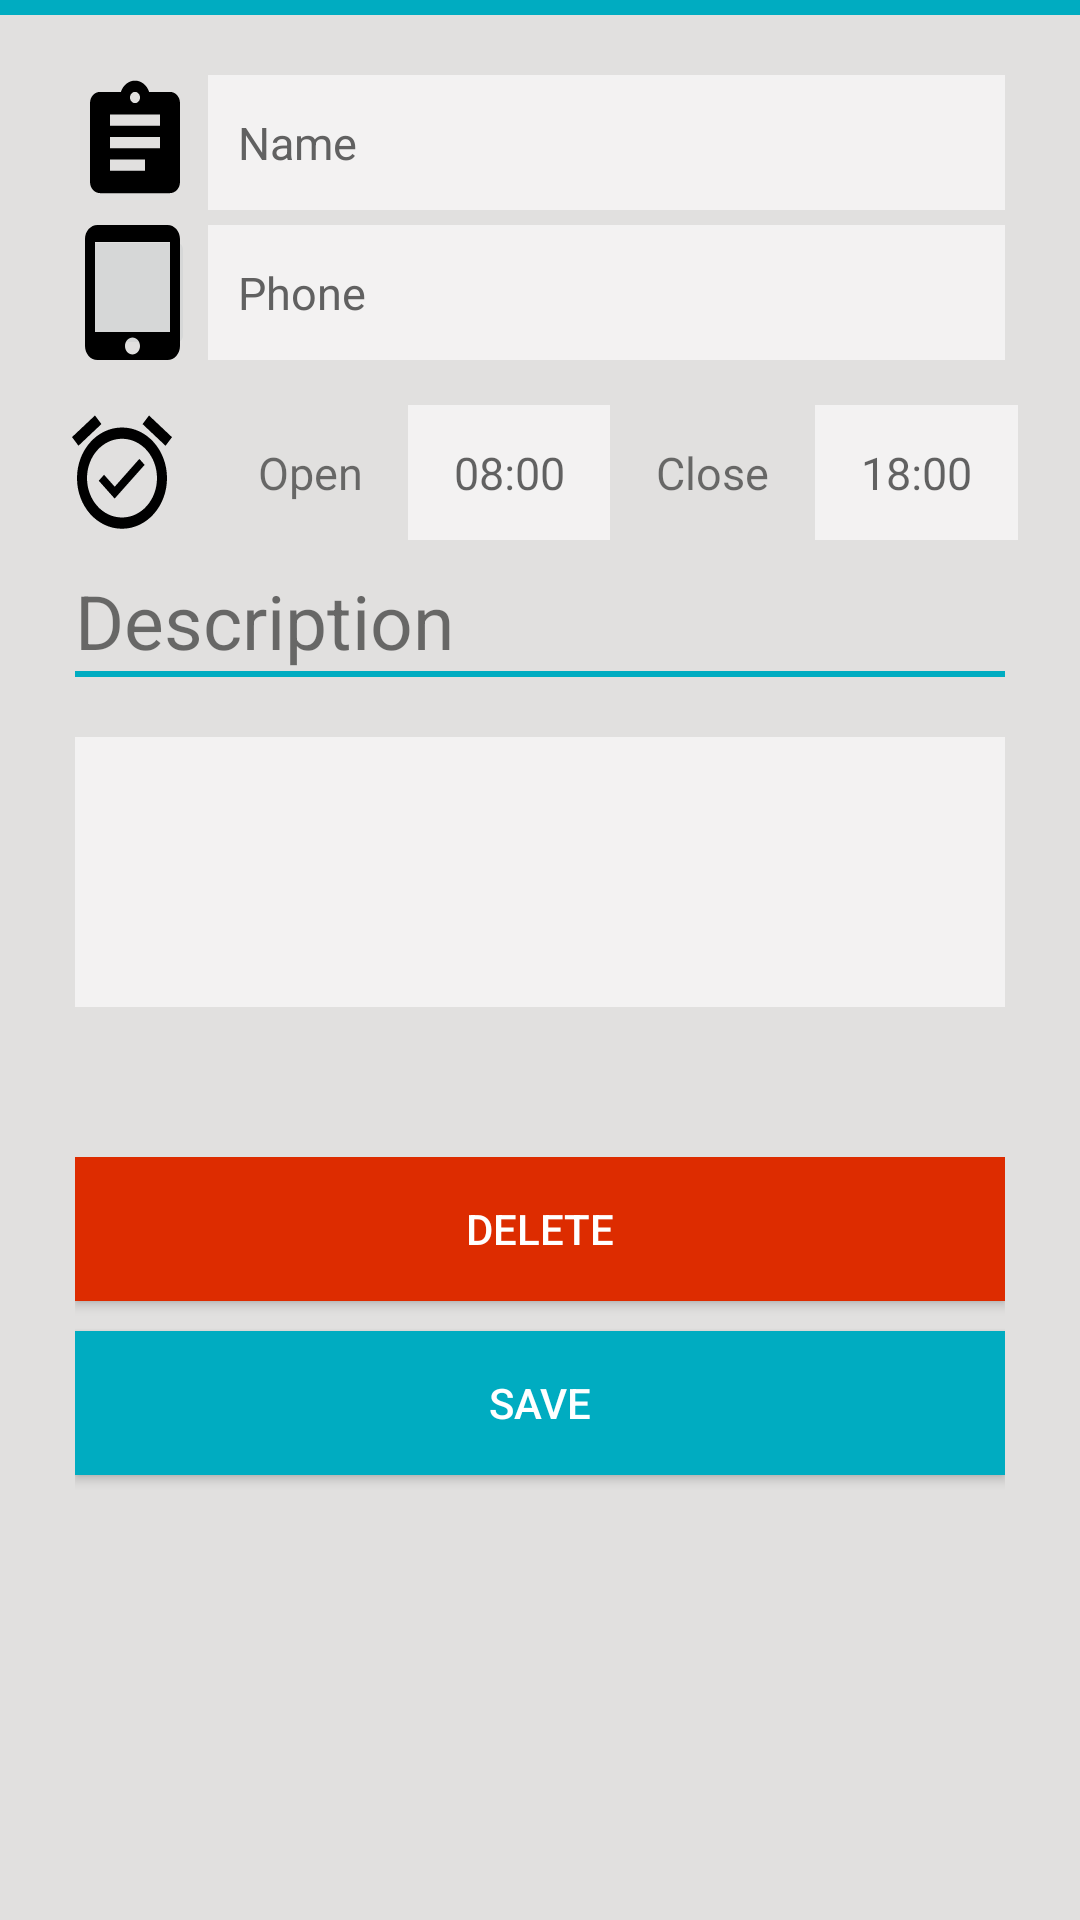

Where icons sit on this 1080w x 1920h app screen, as (x1, y1, x2, y2):
alarm on: (72, 415, 172, 529)
assignment: (90, 80, 180, 194)
tablet mac: (85, 225, 183, 360)
